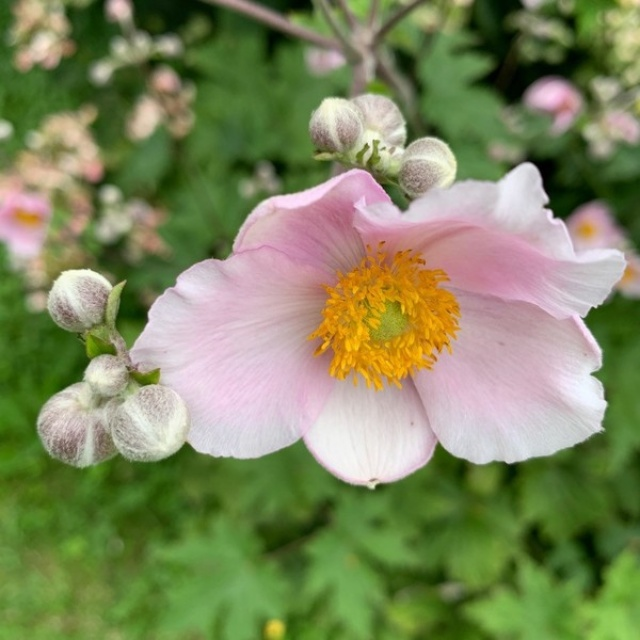obstacle: (100, 59, 594, 494)
